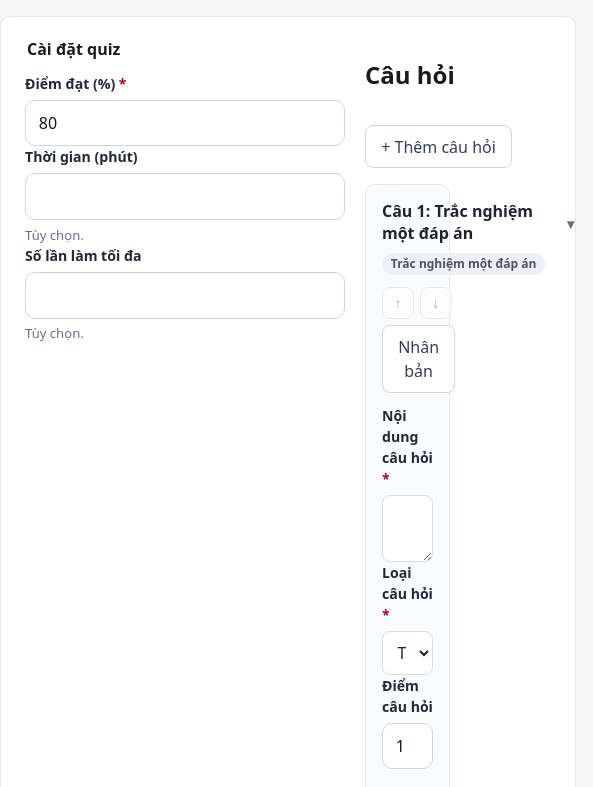
Test: AdminQuizBuilderForm › collapses question body without clearing inputs
The width and height of the screenshot is (593, 787).
Type "Nội dung giữ lại" into the text box labelled "Nội dung câu hỏi *" at point(408, 528), box [382,495,433,562]
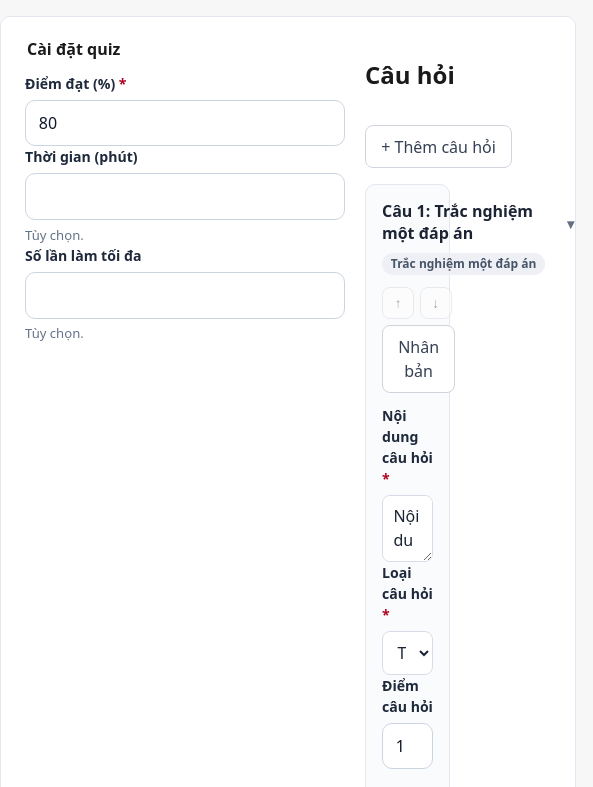
Click the button "Câu 1: Trắc nghiệm một đáp án ▾" at point(478, 223), box [382,201,574,245]
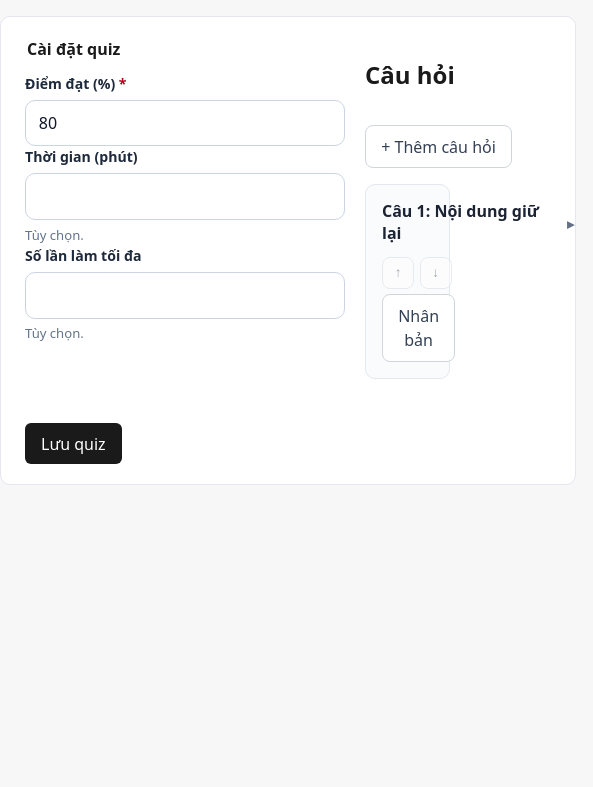
Now the label labelled "Nội dung câu hỏi" is gone
Click the button "Câu 1: Nội dung giữ lại ▸" at point(478, 223), box [382,201,574,245]
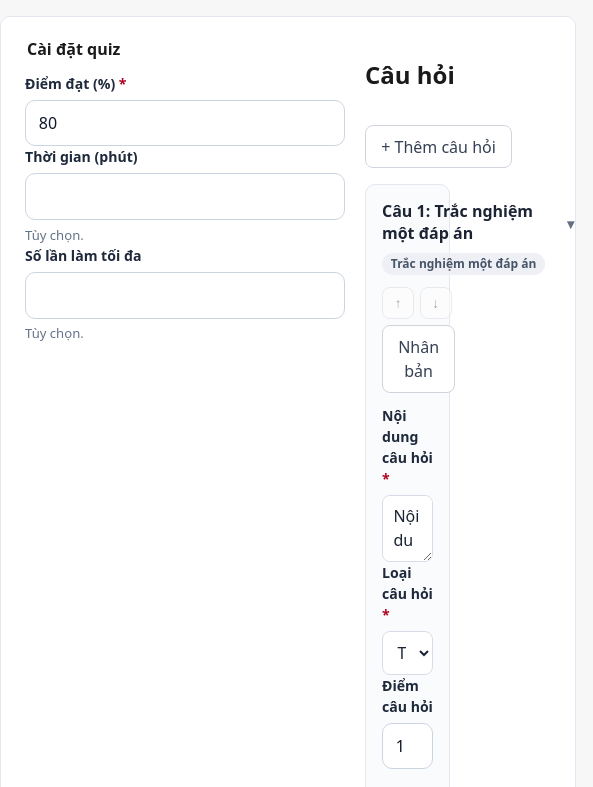
Now the text box labelled "Nội dung câu hỏi *" holds "Nội dung giữ lại", box [382,495,433,562]
